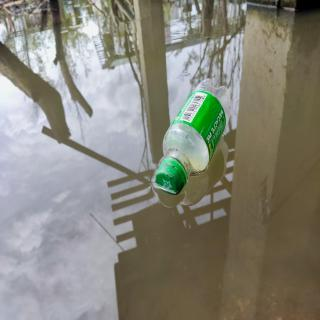bottle: (152, 75, 234, 199)
